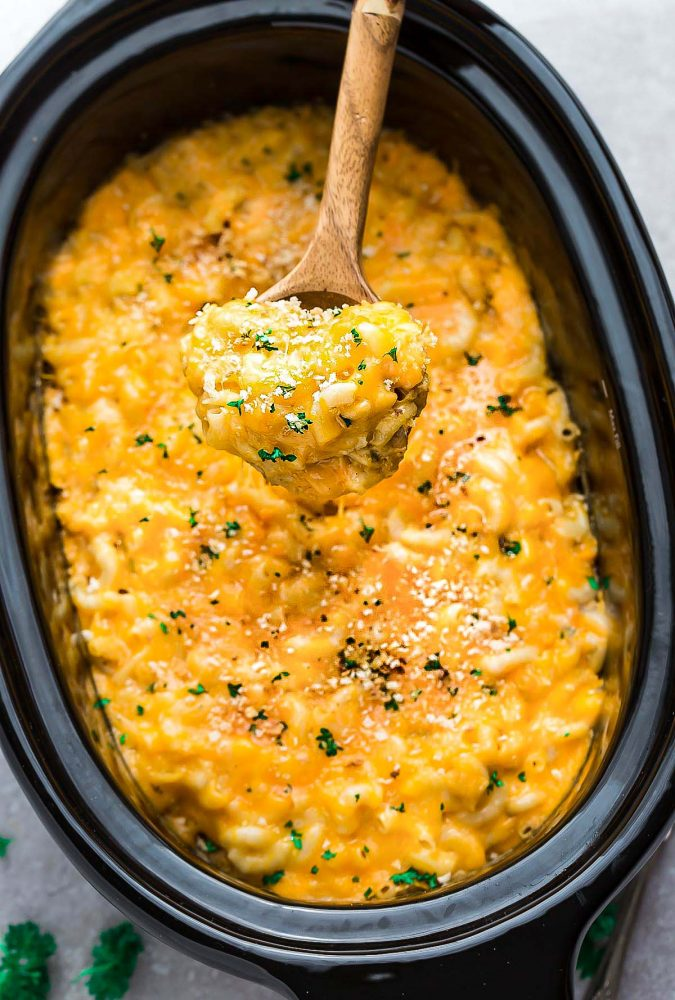macncheese: (94, 297, 537, 729)
